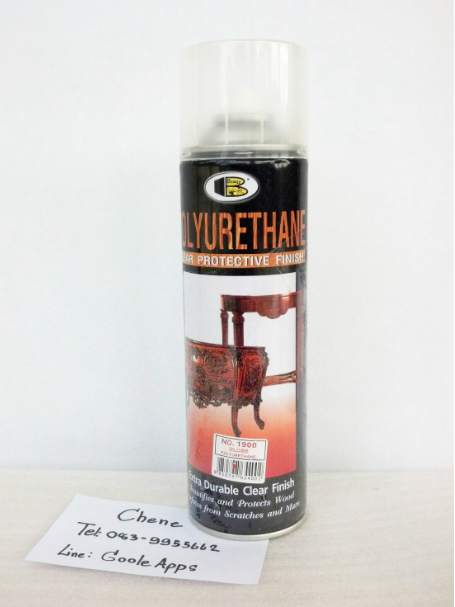Aerosol_cans: (172, 35, 312, 543)
